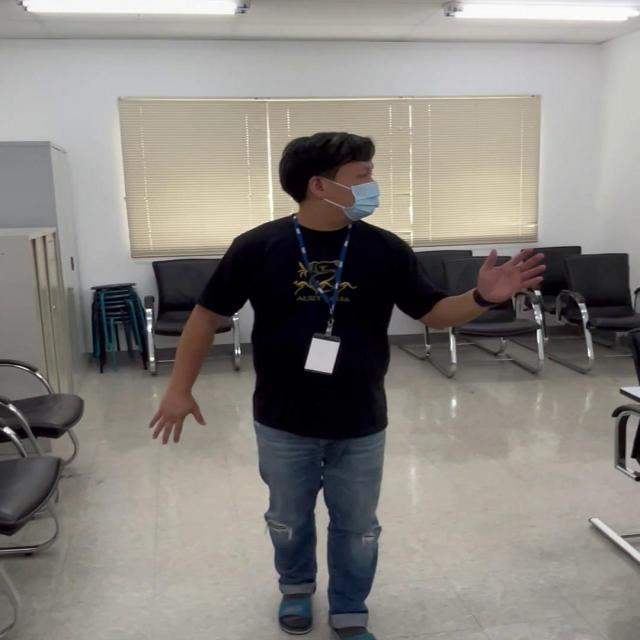bare_hand: (477, 245, 548, 306), (147, 386, 203, 446)
